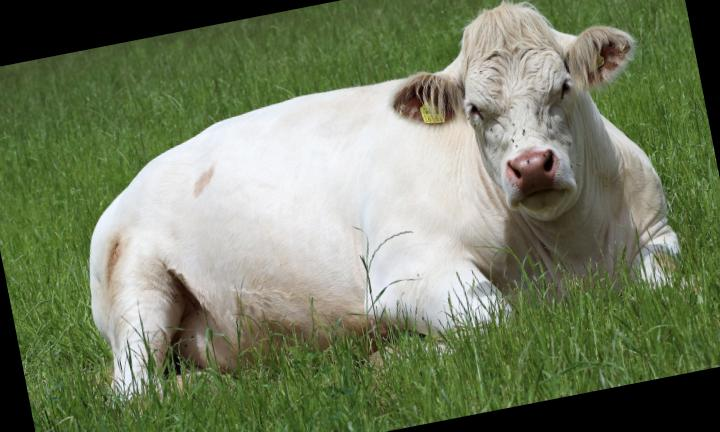Charolais: (89, 3, 678, 393)
